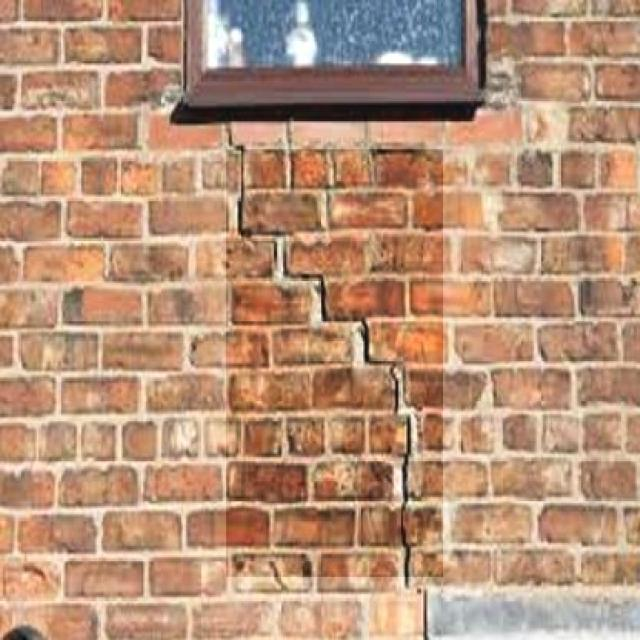Crack: (210, 116, 445, 640)
